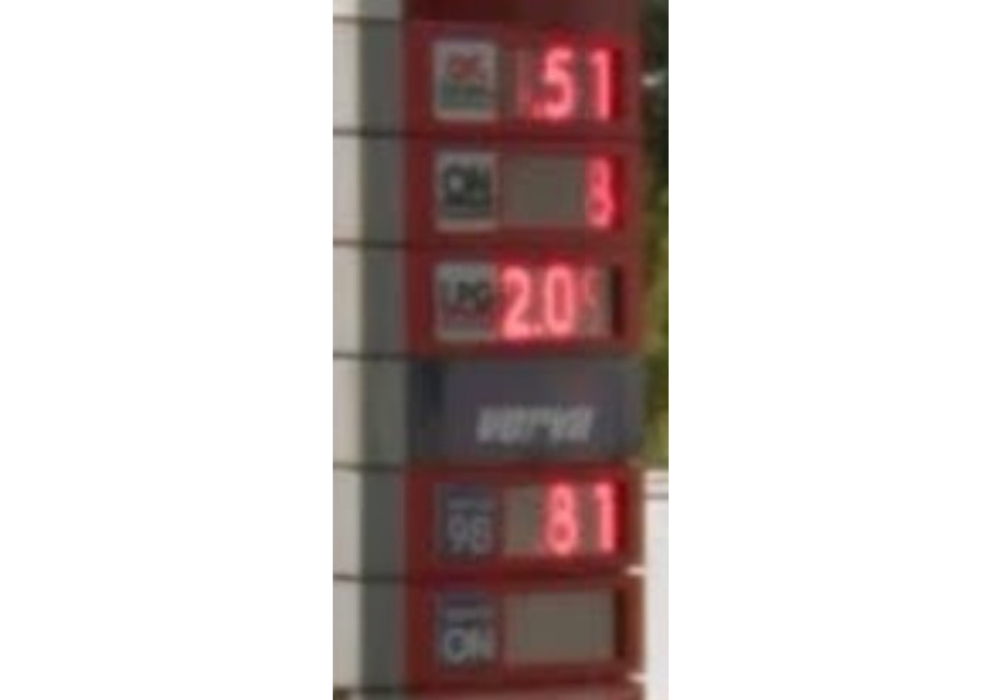ON: (439, 592, 505, 674), (429, 151, 498, 229)
PB98: (437, 485, 501, 566)
